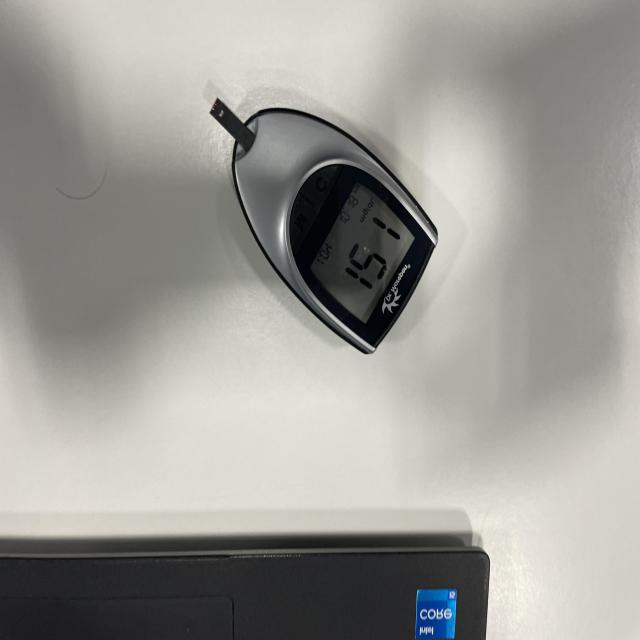gluco: (211, 101, 440, 357)
